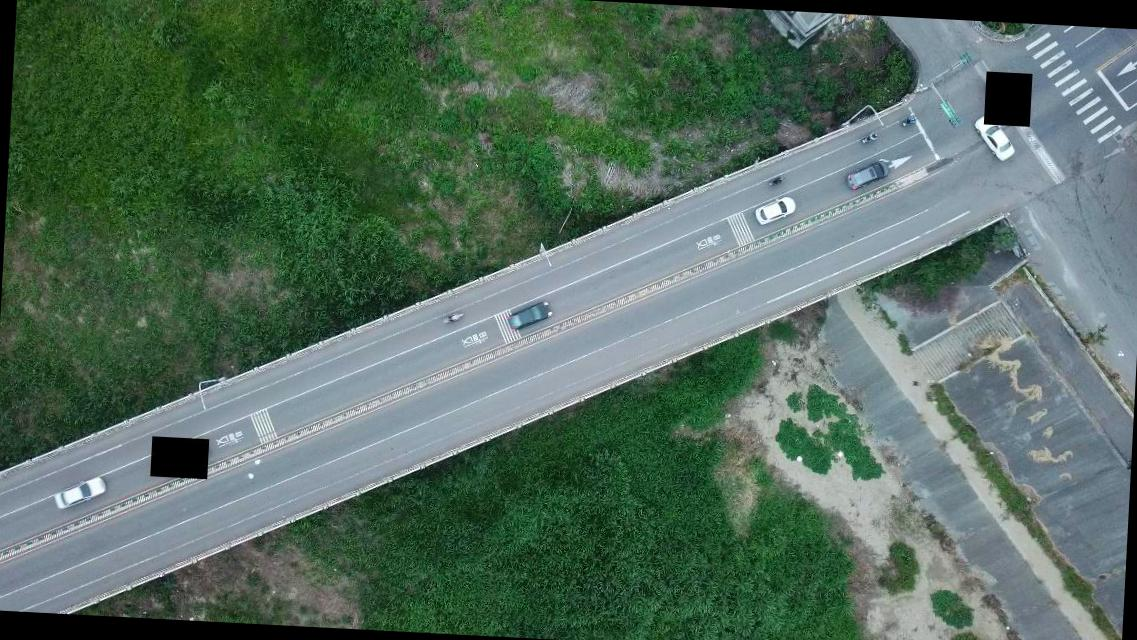vehicle: (52, 473, 108, 512), (974, 114, 1016, 164), (505, 298, 552, 335), (750, 194, 796, 228), (844, 160, 889, 190)
